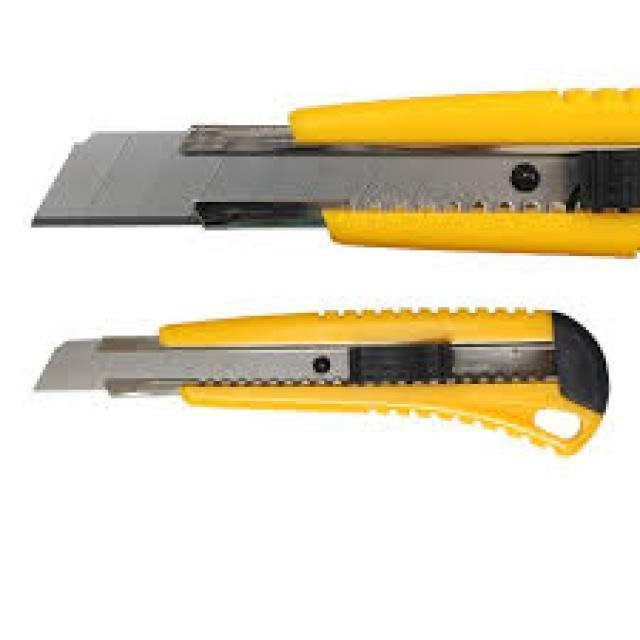cutter: (27, 77, 640, 286), (34, 303, 632, 463)
